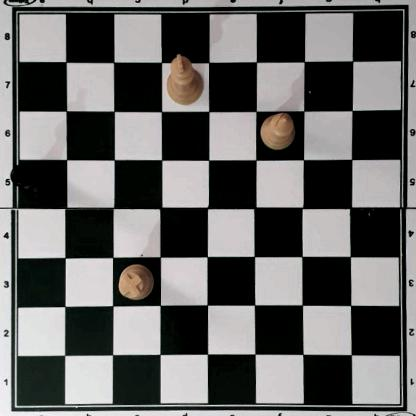black-king: (10, 161, 59, 201)
white-bishop: (260, 112, 295, 150)
white-king: (165, 54, 204, 106)
white-rook: (117, 264, 155, 300)
